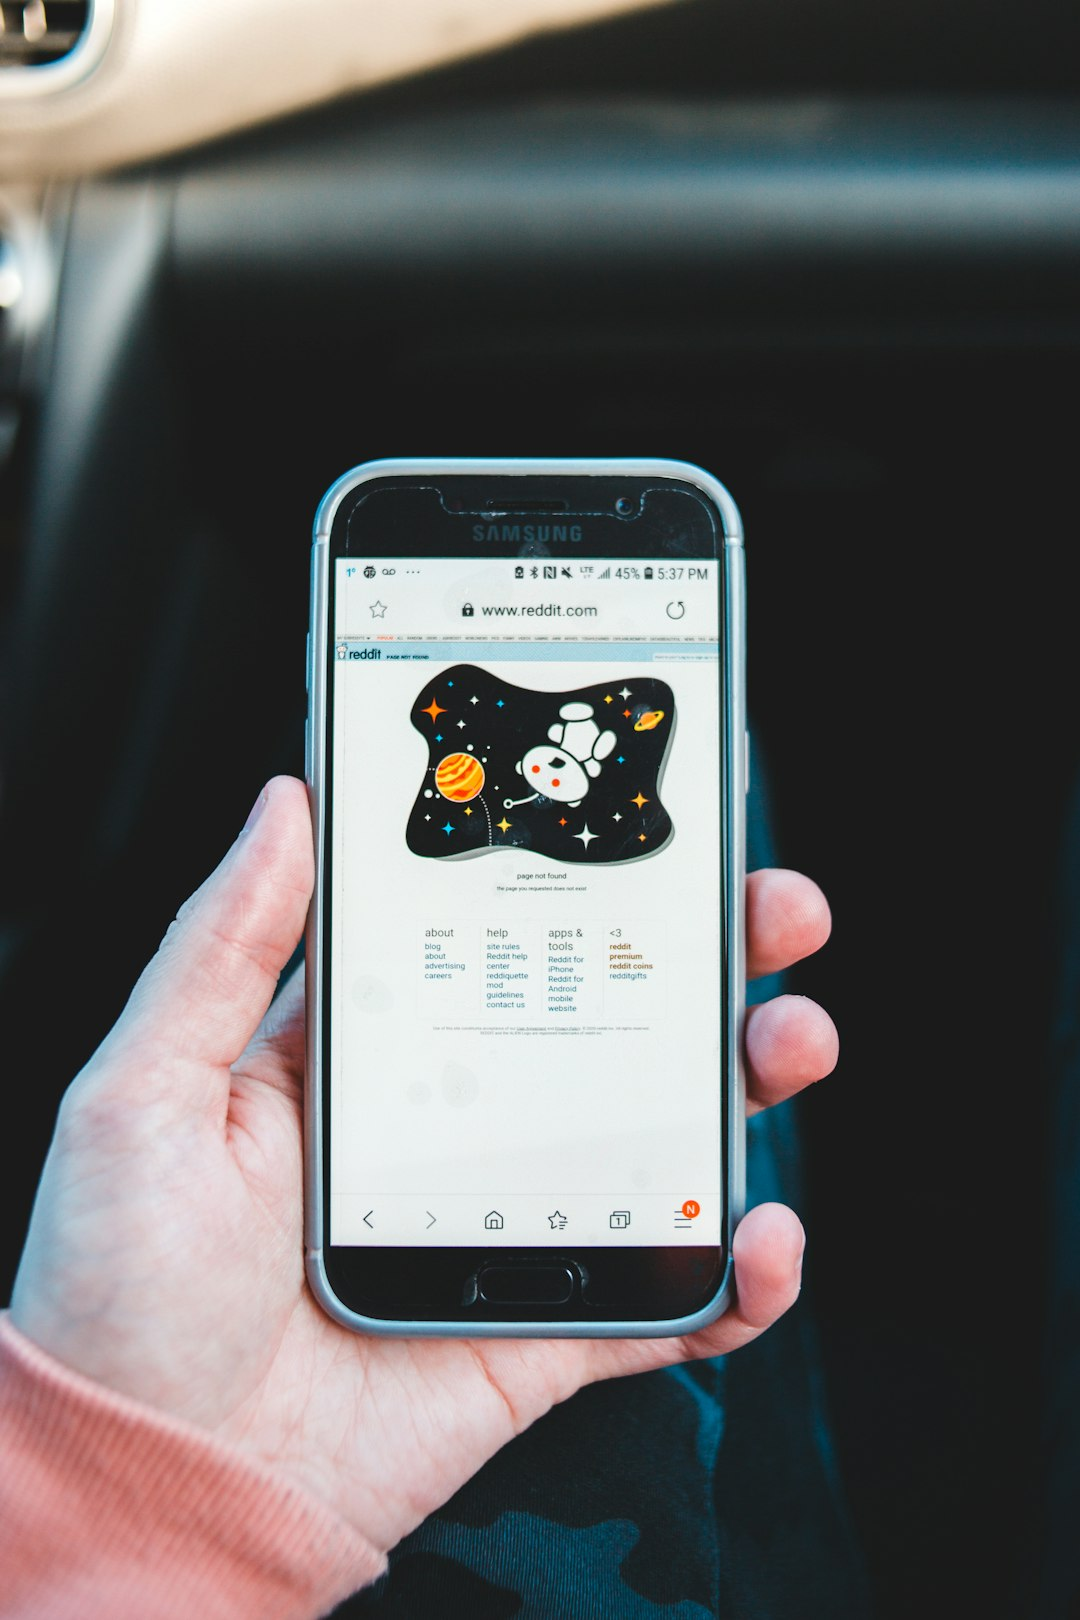phone: (306, 452, 751, 1332)
